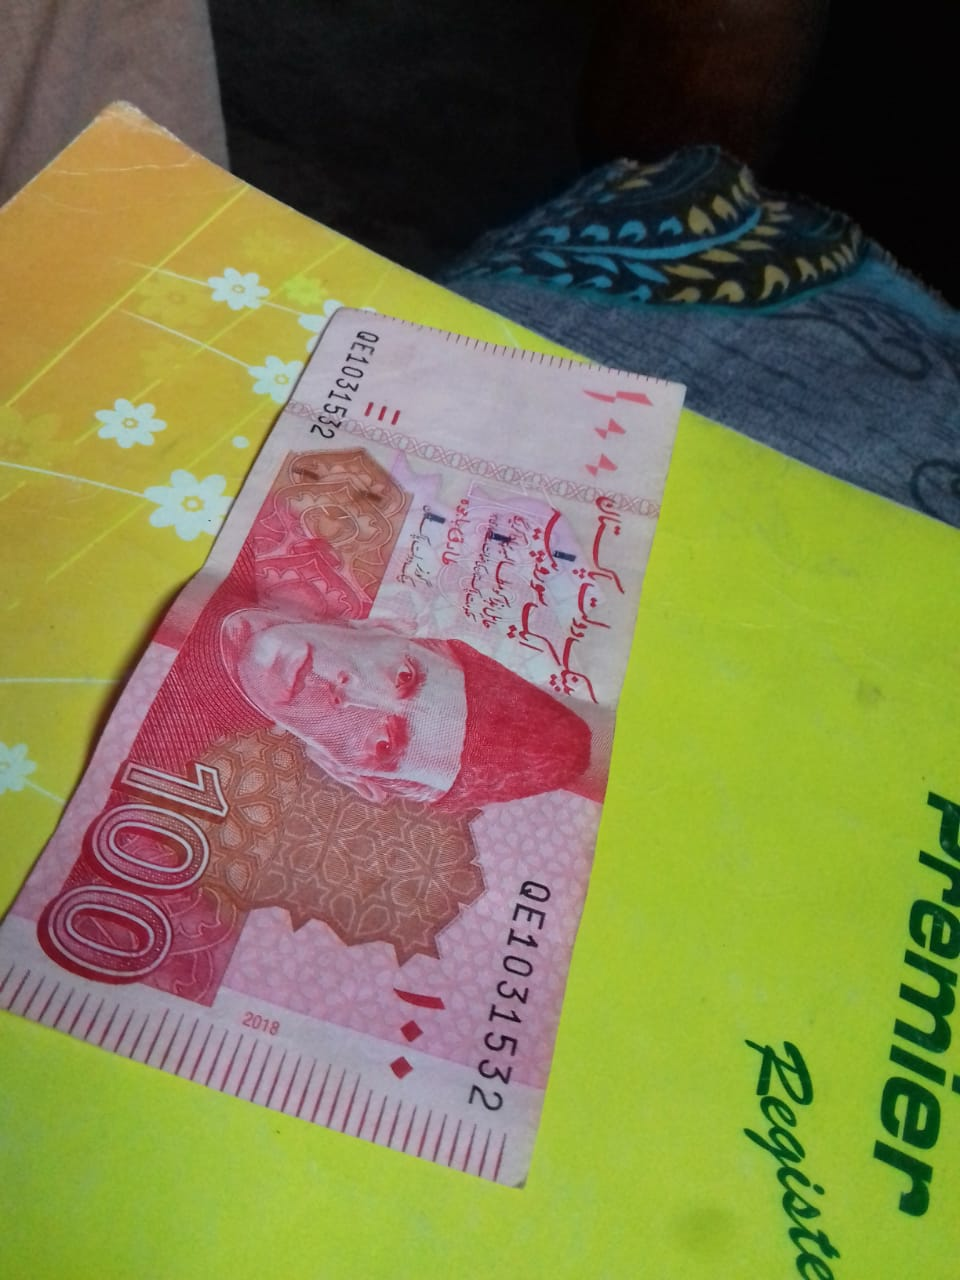100 rupee: (0, 291, 731, 1198)
